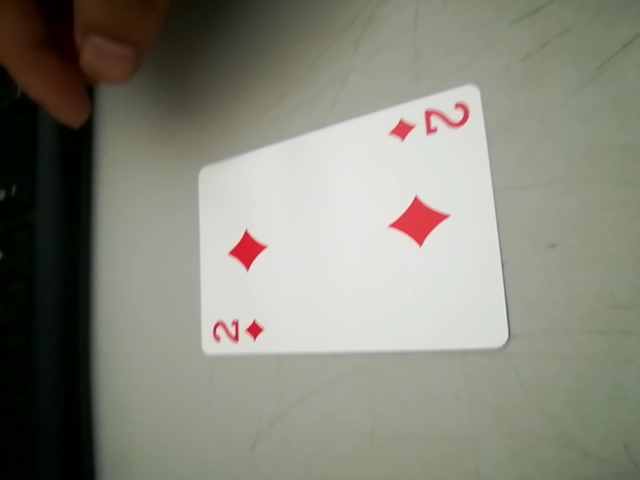fk 2: (380, 95, 477, 148), (205, 308, 271, 354)
